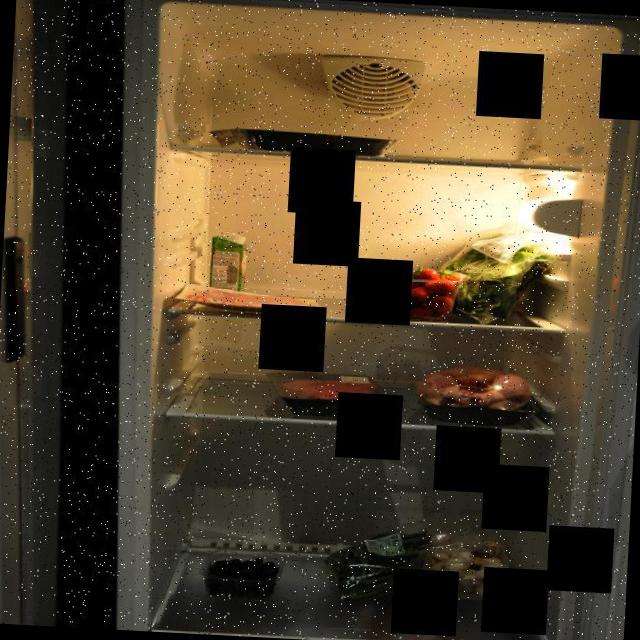Carne cerdo: (178, 287, 324, 319)
Carne pollo: (410, 359, 546, 426)
Champiñones: (424, 528, 514, 604)
